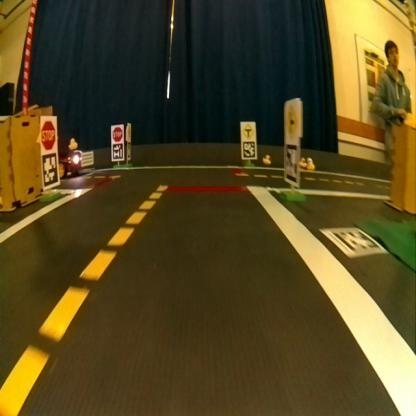Duckie: (68, 138, 76, 150), (306, 157, 314, 169), (262, 154, 270, 164), (299, 156, 307, 166)
Duckiebot: (58, 150, 93, 178)
Intersection sign: (286, 104, 298, 135), (242, 122, 254, 138)
QR code: (320, 226, 388, 256), (284, 143, 298, 183), (42, 152, 58, 186), (242, 139, 255, 157), (111, 142, 122, 158)
Stop sign: (40, 120, 56, 150), (111, 126, 122, 142)
